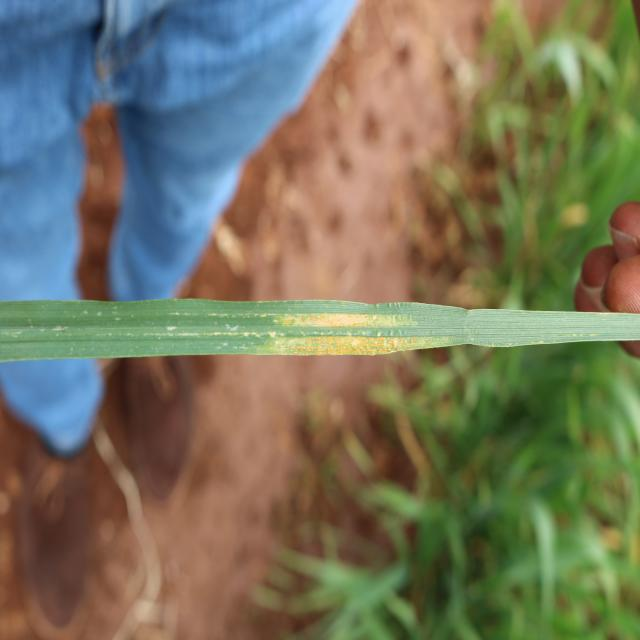Stripe Rust: (290, 335, 402, 357), (286, 313, 379, 329), (407, 336, 419, 344)
